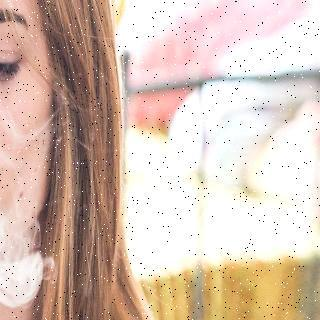smoke: (0, 10, 50, 320)
